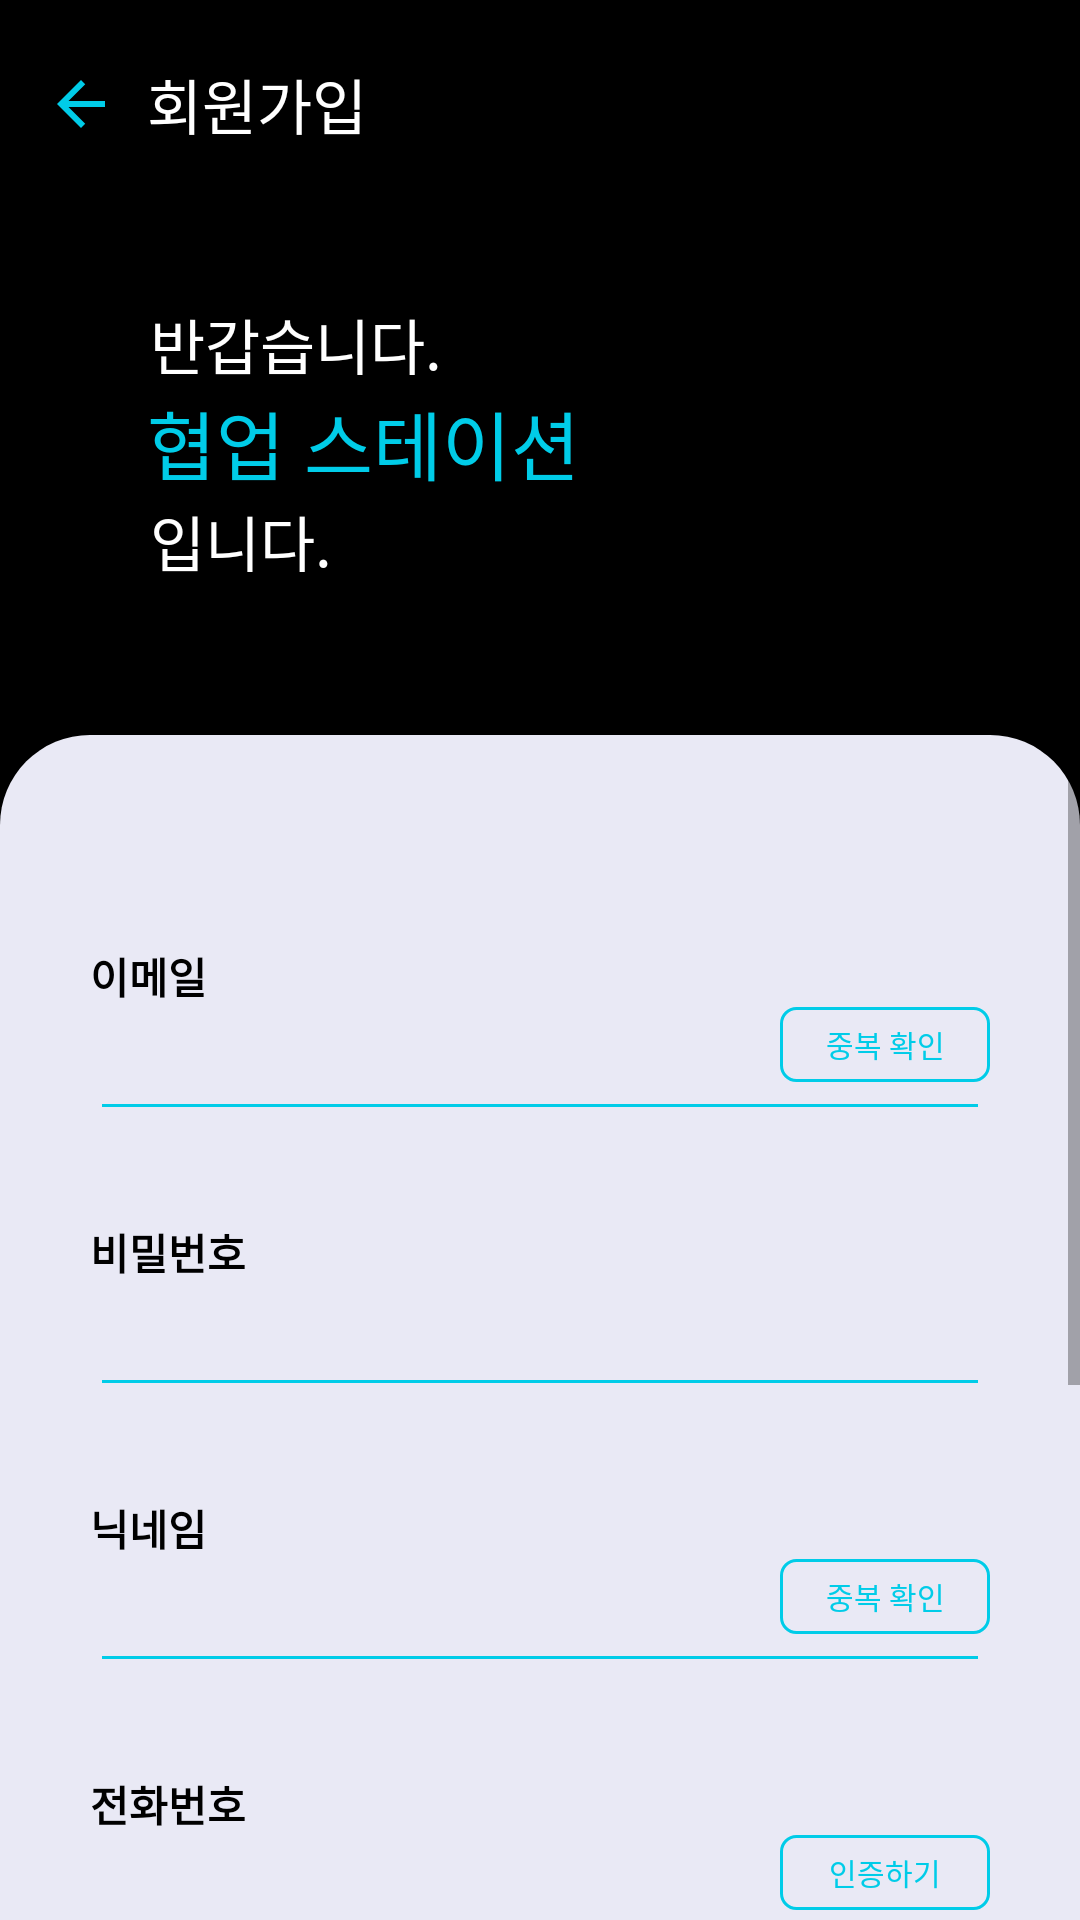

Icons on this 1080x1920 Android screen, each with its box as (x1, y1, x2, y2):
create back: (57, 80, 105, 128)
